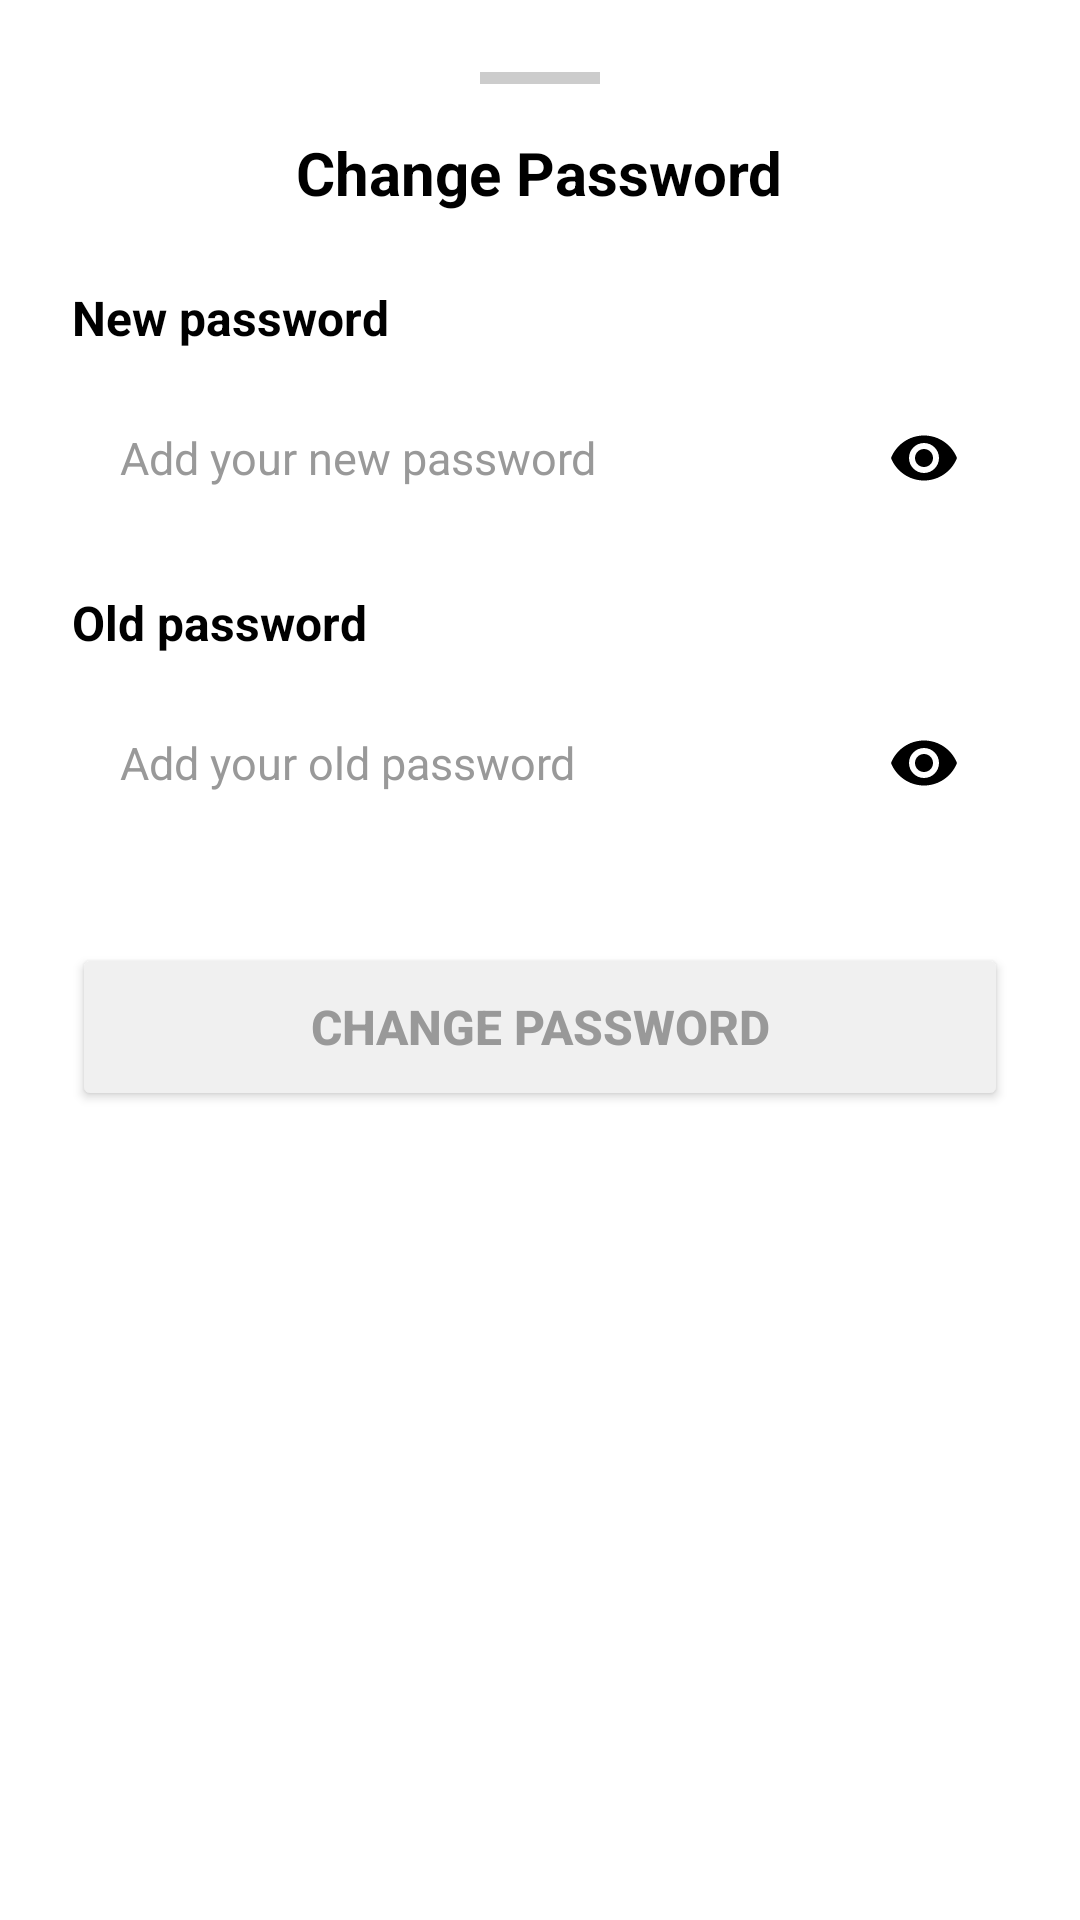

Screen size 1080px x 1920px. Icon name, then its center in pixels as [x,y]:
eye: [924,458], [924,763]
